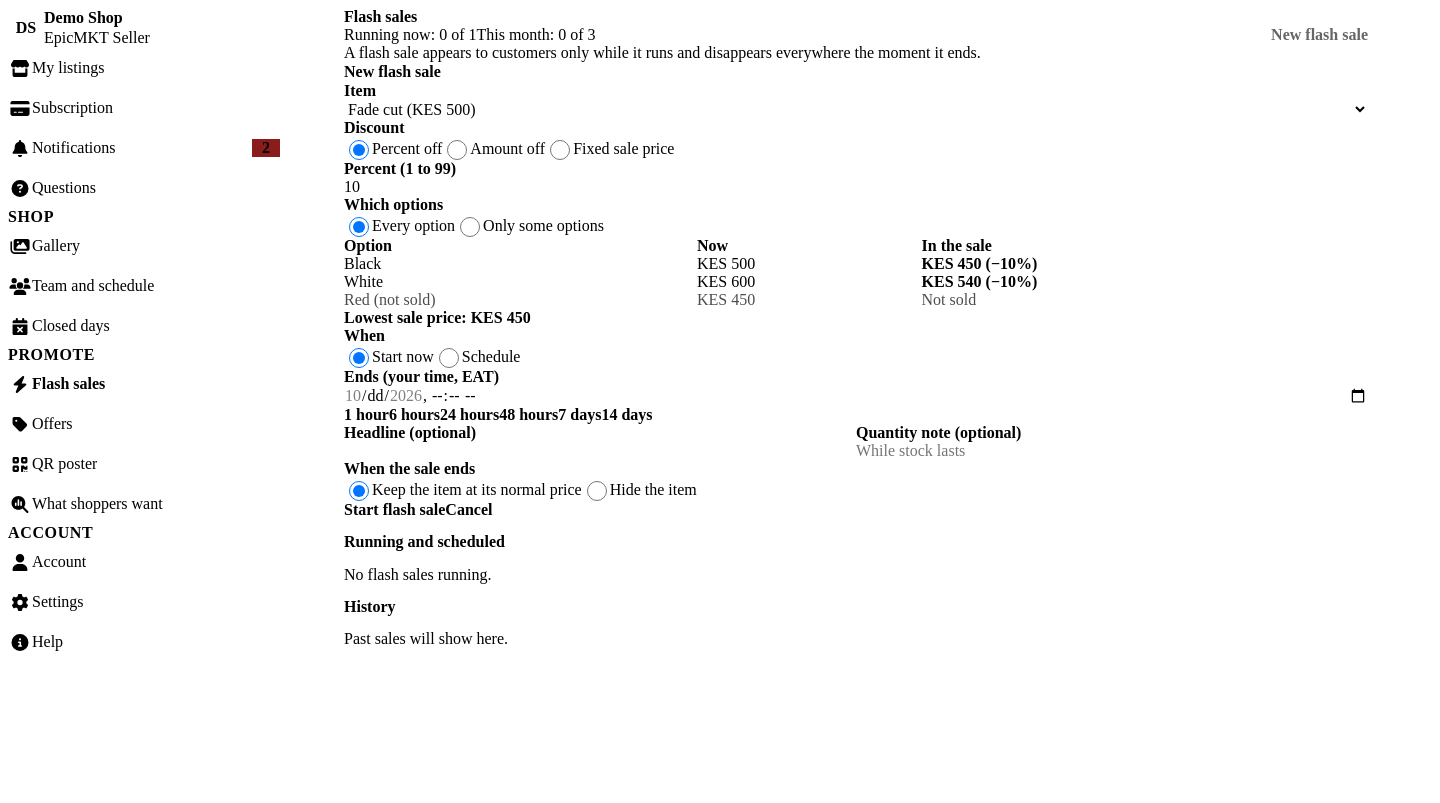
Test case: flash sale per option (seller) › refuses to start a sale on chosen options when none is chosen, and when a discount is too large
The image size is (1440, 803).
Earlier steps of the test are not shown.
Click the radio button labelled "Only some options" at (470, 227), box 460,217 -> 480,237
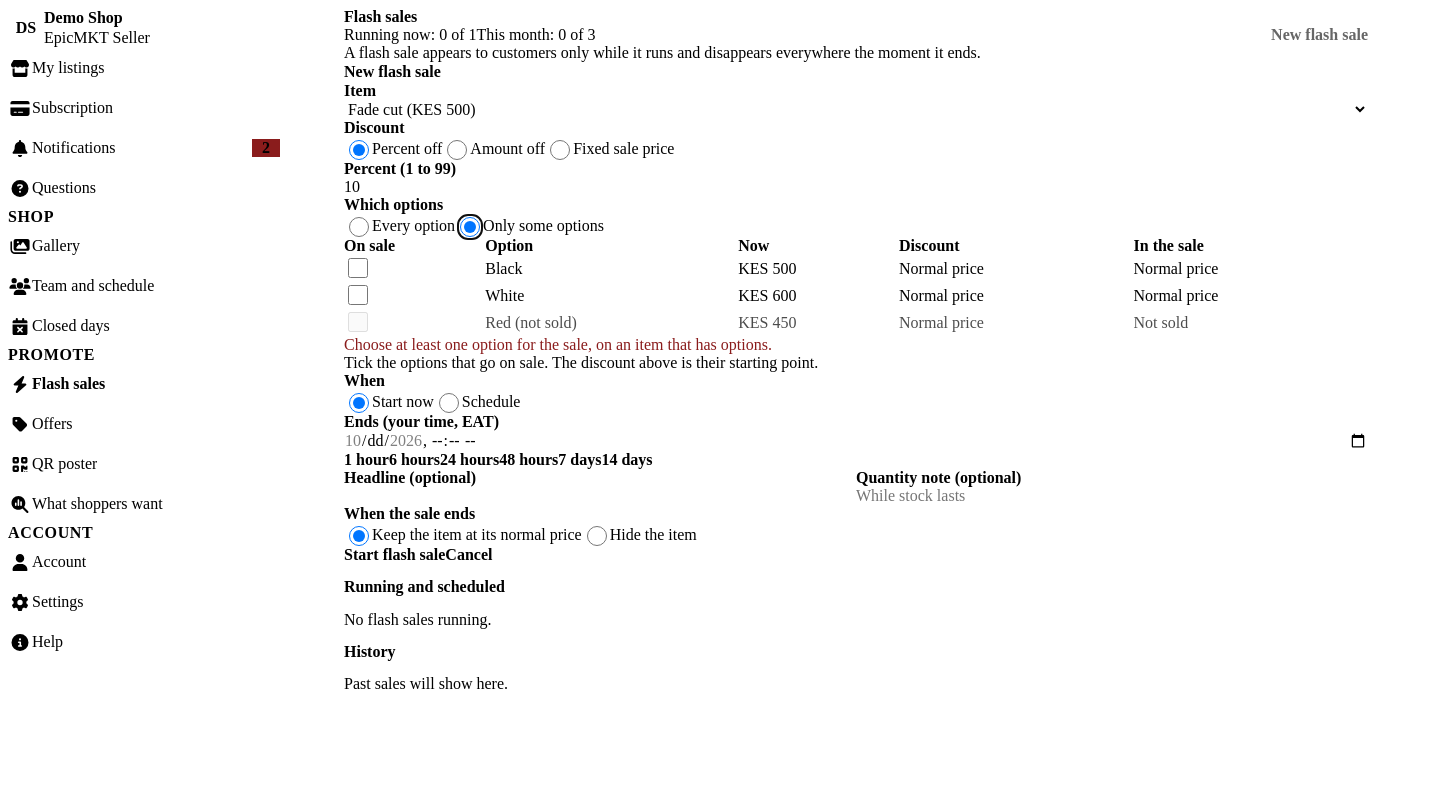
Click the button "6 hours" at (414, 460), box 389,451 -> 440,469
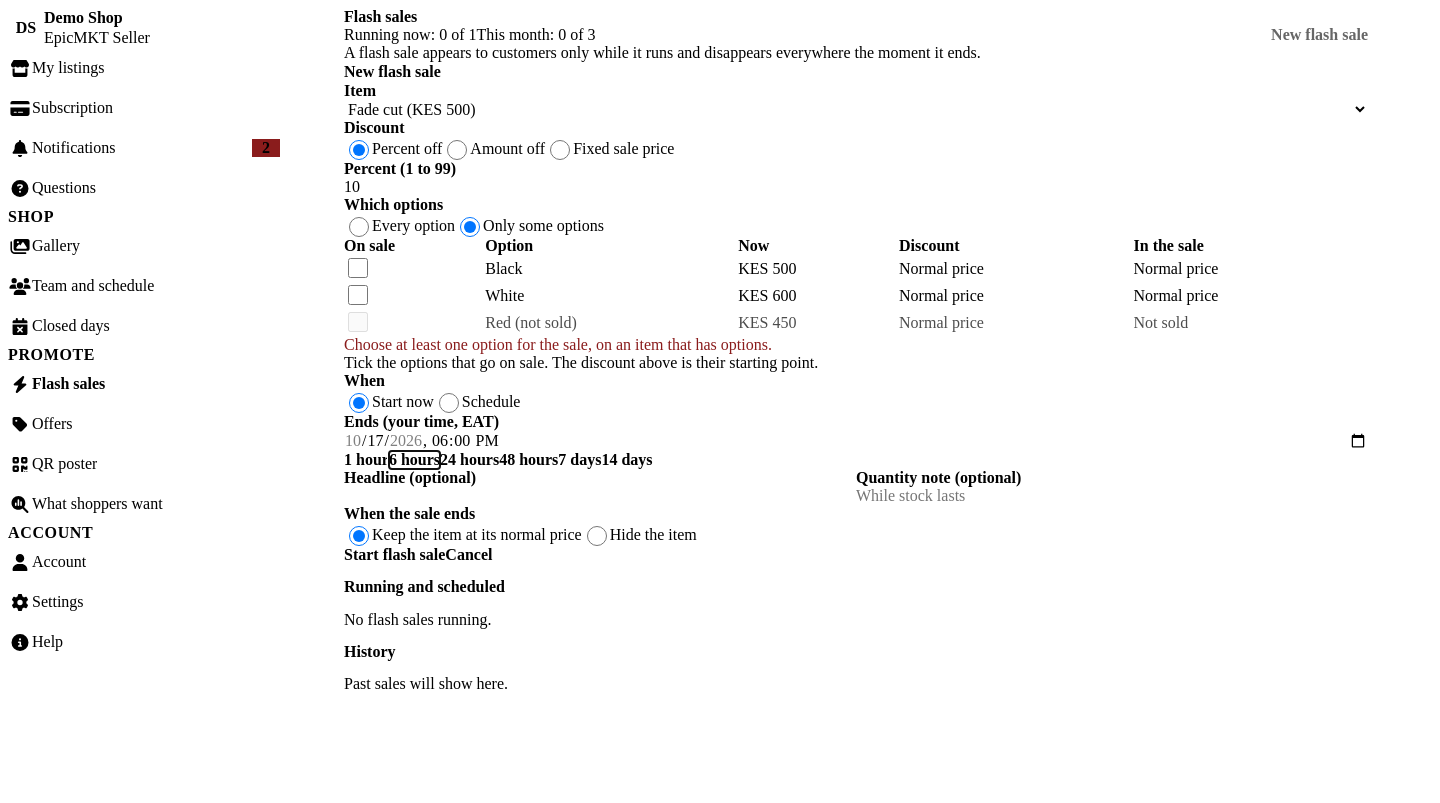
Click the button "Start flash sale" at (395, 555), box 344,546 -> 445,564
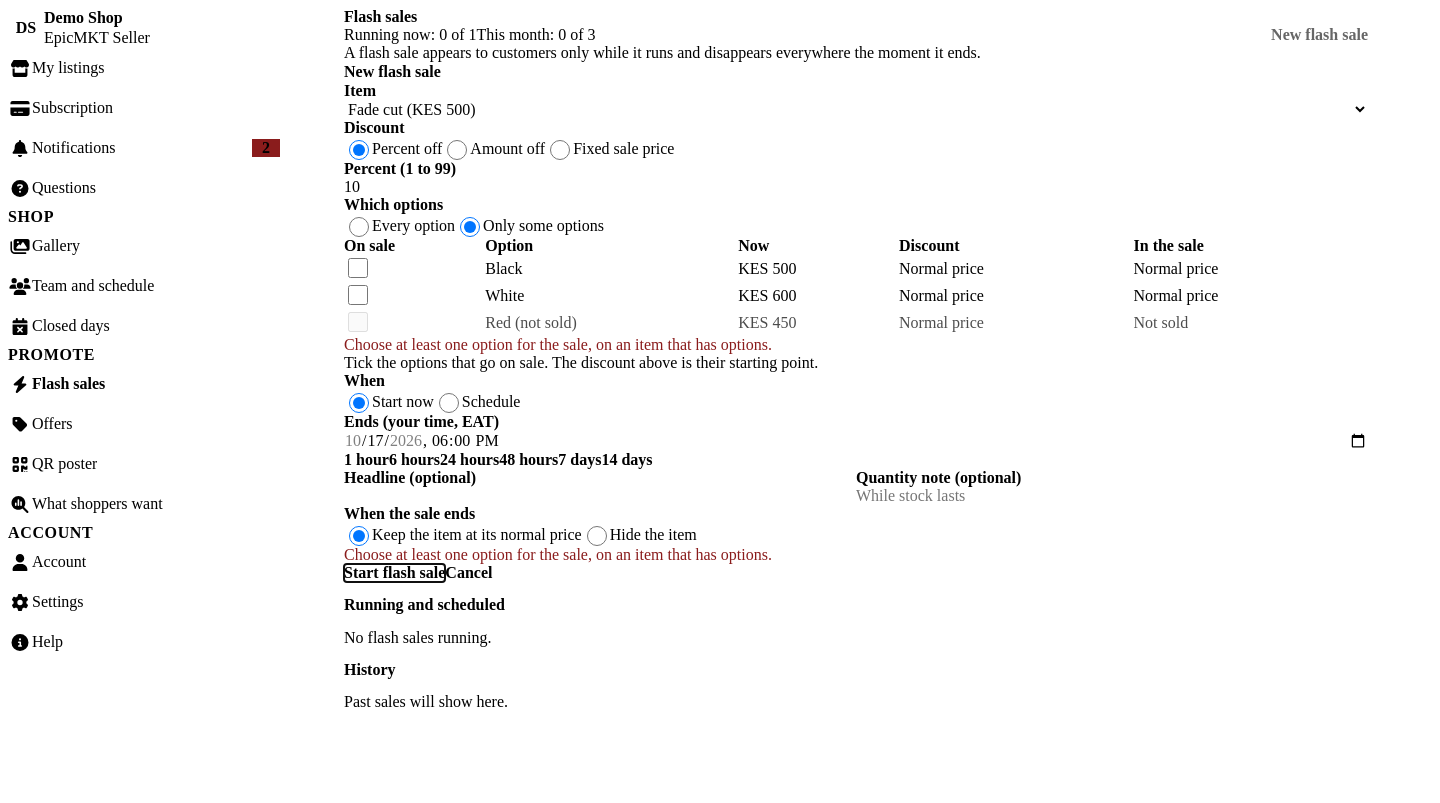
Check: the message "Choose at least one option for the sale, on an item that has options." below "Red" is shown, box 344,336 -> 772,353
Click the checkbox named "Put Black on sale" at (358, 268), box 348,258 -> 368,278
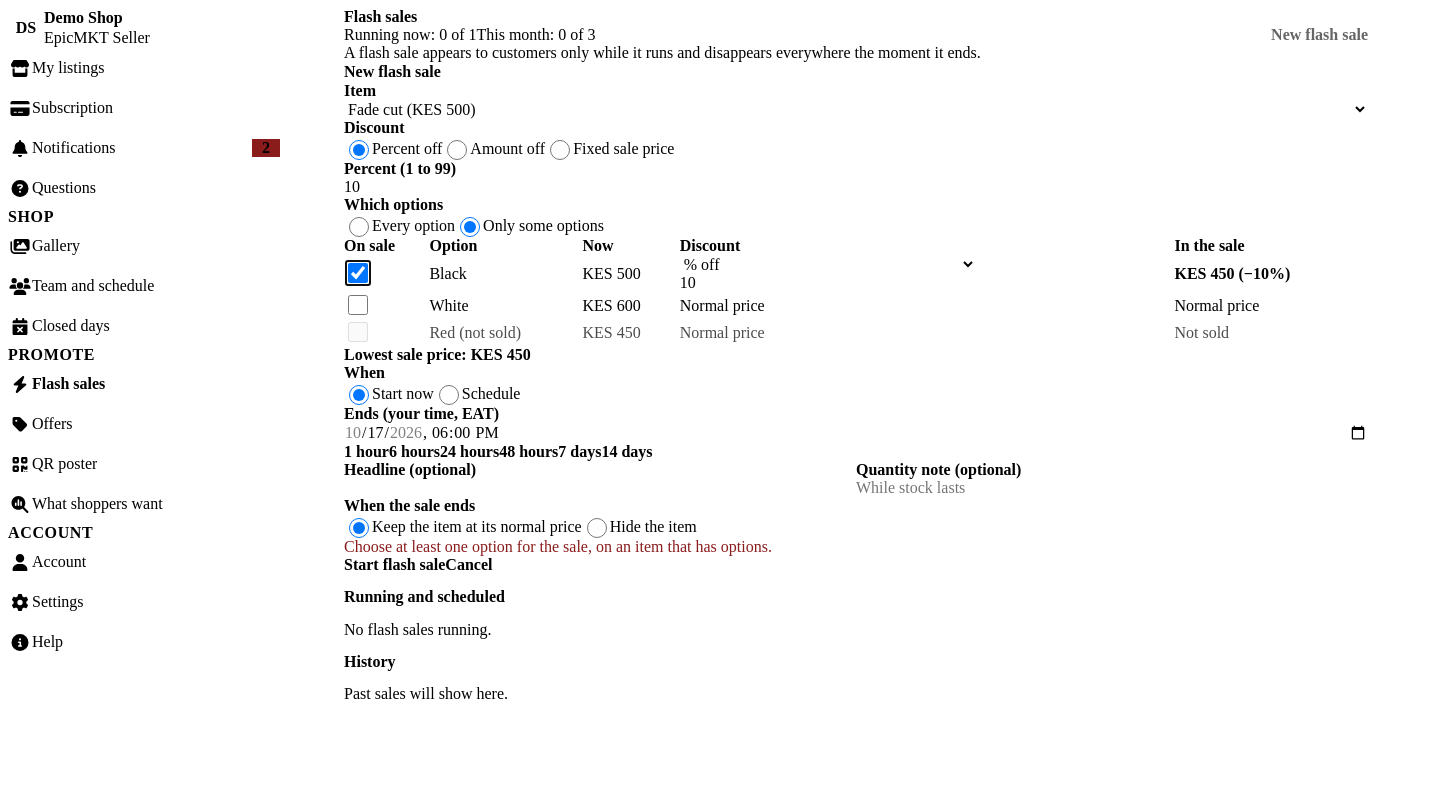
Select "KES off" in the dropdown named "Discount type for Black" at (828, 264), box 680,255 -> 976,274
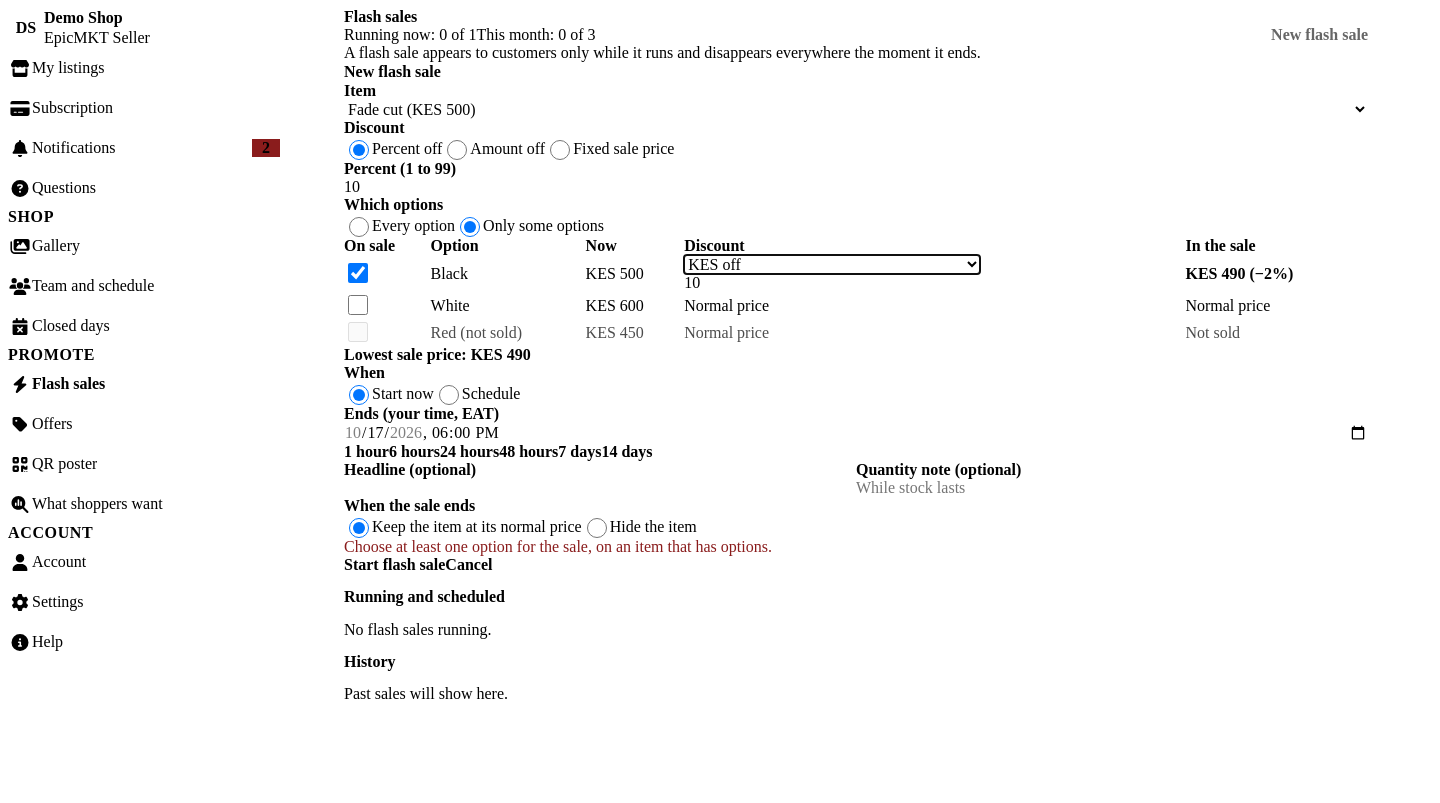
Replace the text in the number field named "Discount for Black" with "500" at (832, 283), box 684,274 -> 980,292
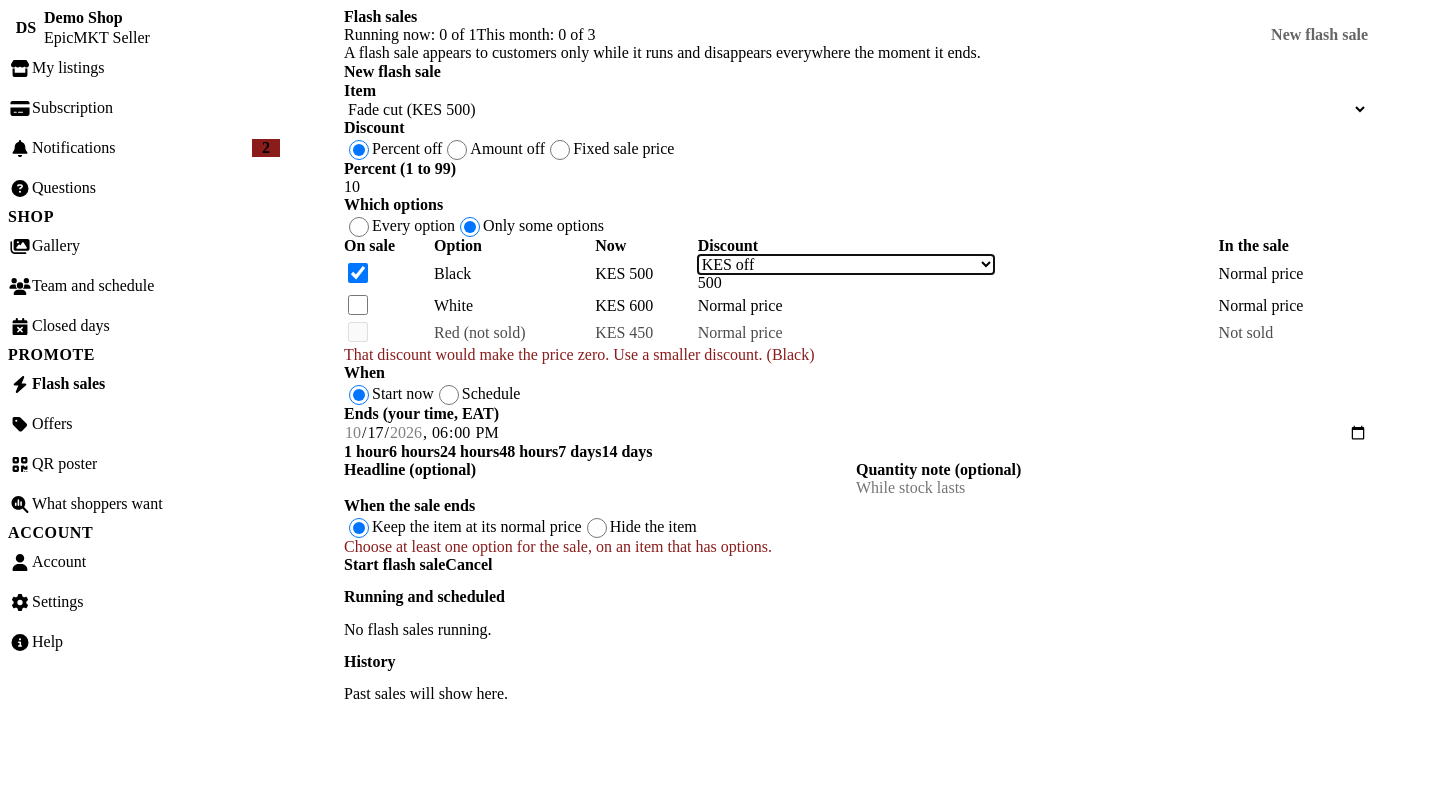
Check: the message "That discount would make the price zero. Use a smaller discount. (Black)" is shown, box 344,346 -> 814,363
